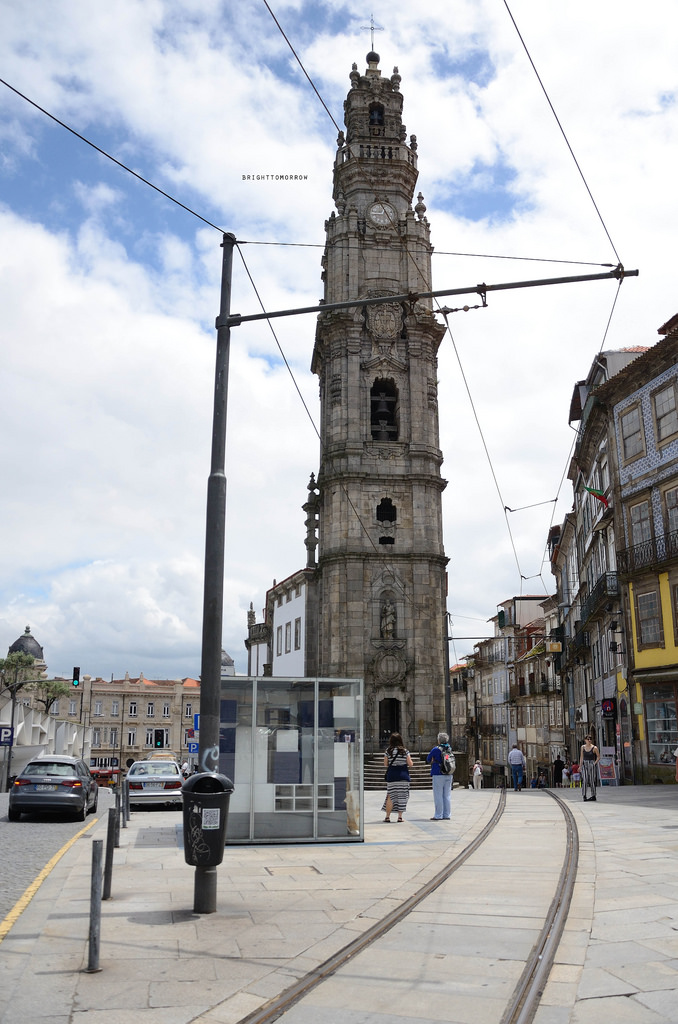clerigos: (302, 8, 454, 756)
